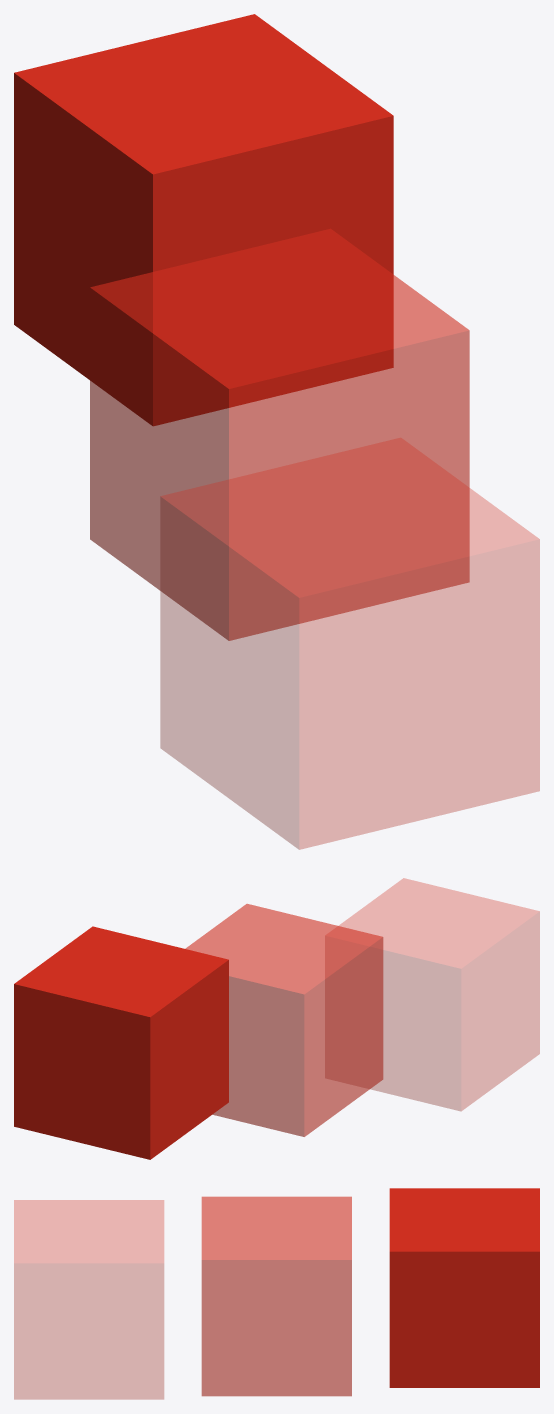
The model's file is alpha_blend_test.gltf.
3 views of the same model, one above another, from view 1: azimuth 30°, elevation 25°; view 2: azimuth 150°, elevation 25°; view 3: azimuth 270°, elevation 25° (orthographic). The views are drawn at different scales.
Visible parts, largest first — view 1: Cube.001, Cube, Cube.002; view 2: Cube.001, Cube.002, Cube; view 3: Cube, Cube.001, Cube.002.
Part boxes in pixels (x1,y1,x2,y2): Cube.001: (14, 14, 393, 425); Cube: (90, 228, 469, 640); Cube.002: (160, 438, 539, 849); Cube.001: (14, 926, 228, 1159); Cube.002: (339, 878, 539, 1110); Cube: (185, 904, 383, 1136); Cube: (201, 1196, 351, 1396); Cube.001: (389, 1188, 539, 1387); Cube.002: (14, 1200, 163, 1399).
Size of the model in its own units: 3.67 by 2.95 by 7.
